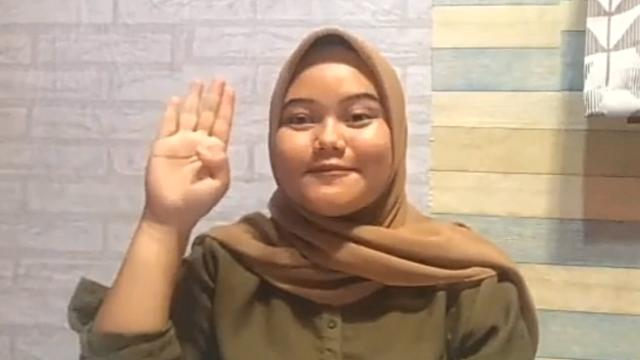B: (145, 76, 235, 220)
